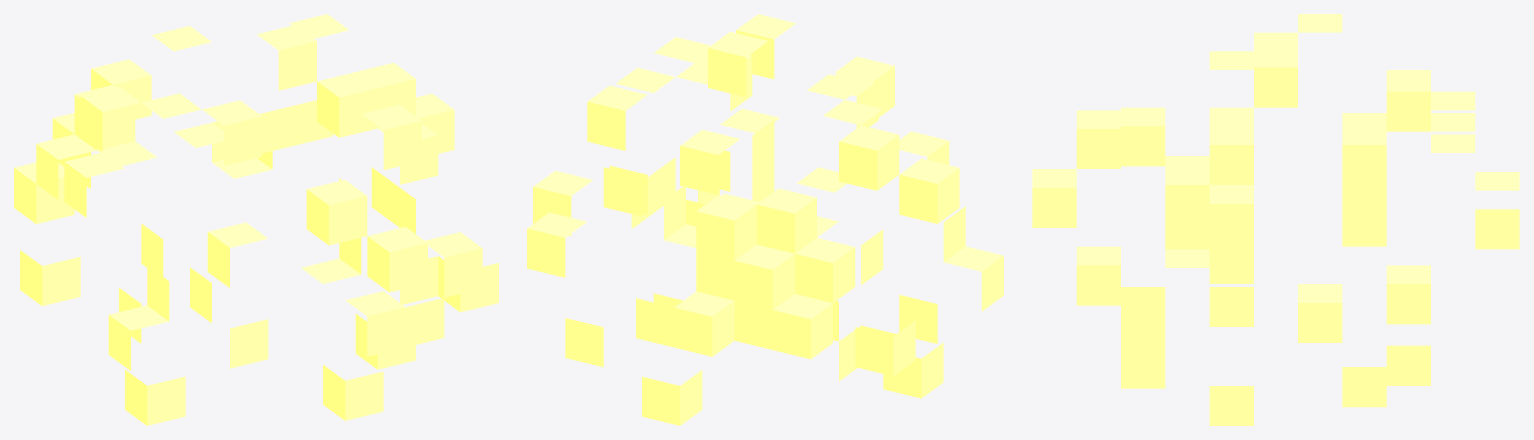
The model's file is tree-maple-1p2-gold-ffd76a.gltf.
3 views of the same model, side by side, from view 1: azimuth 30°, elevation 25°; view 2: azimuth 150°, elevation 25°; view 3: azimuth 270°, elevation 25° (orthographic).
Visible parts, largest first — view 1: tree-maple-1p2-gold-ffd76a; view 2: tree-maple-1p2-gold-ffd76a; view 3: tree-maple-1p2-gold-ffd76a.
Part boxes in pixels (box(x1,y1,x2,y2)): tree-maple-1p2-gold-ffd76a: box(14, 14, 498, 425); tree-maple-1p2-gold-ffd76a: box(527, 14, 1003, 425); tree-maple-1p2-gold-ffd76a: box(1032, 14, 1519, 425).
Bounding box in the file's own units: 10 × 8 × 11.
